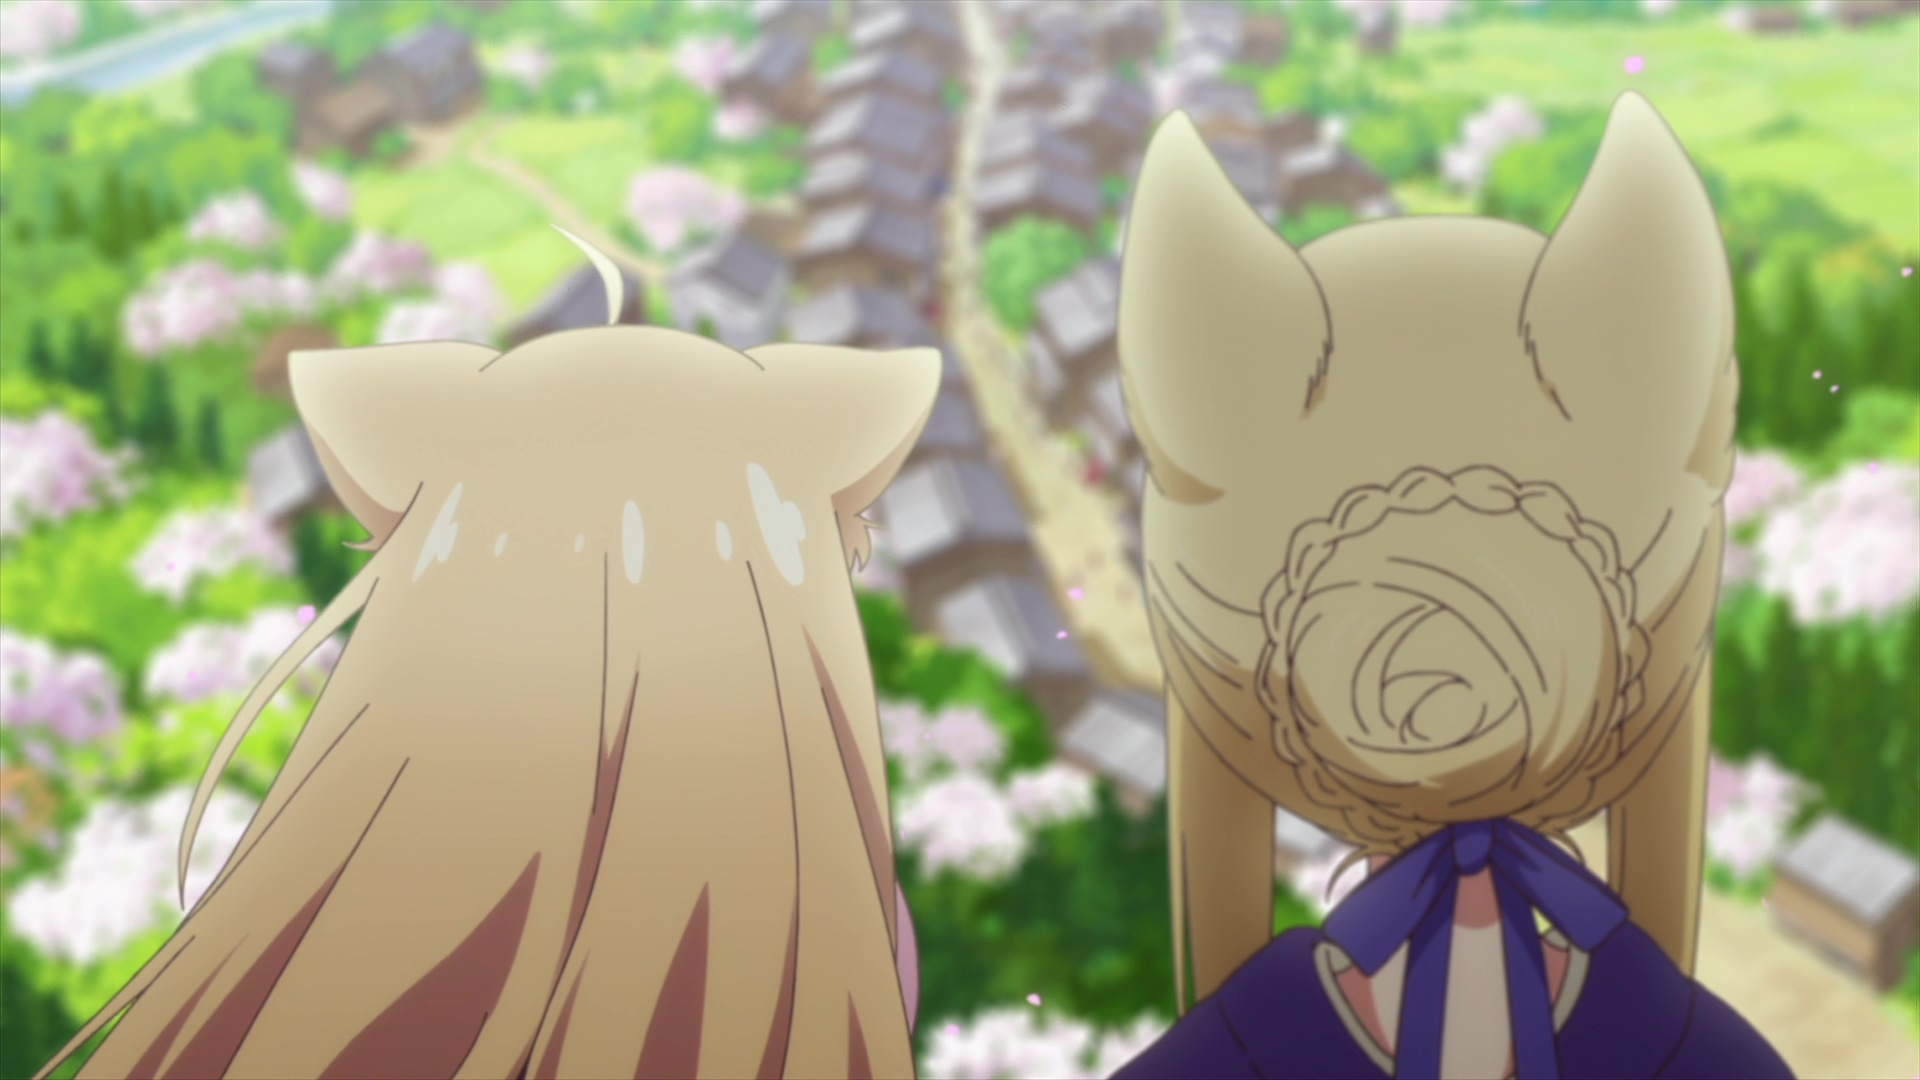柚: (26, 229, 940, 1080)
桐: (1101, 88, 1800, 1080)
